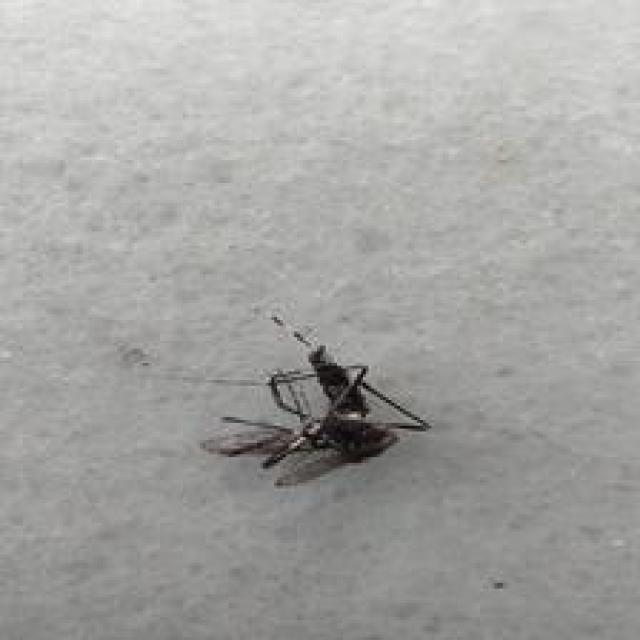Aedes albopictus: (198, 313, 433, 487)
